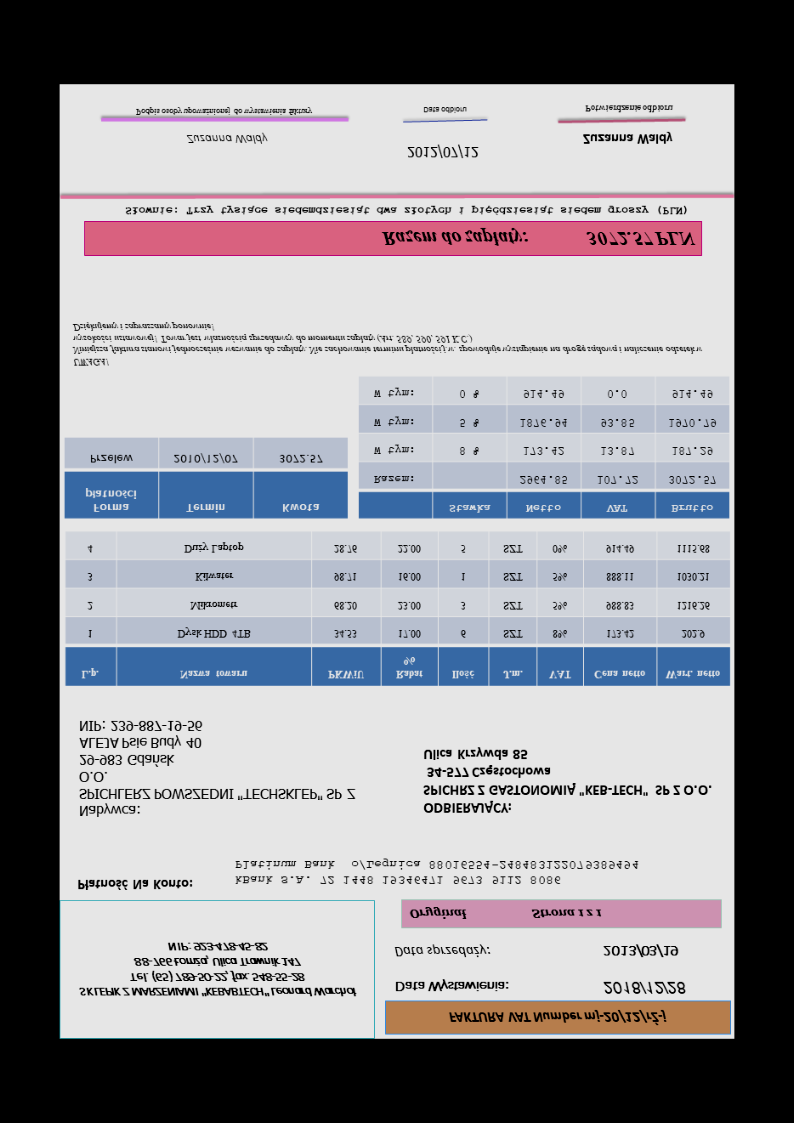Table: (63, 529, 733, 690), (356, 375, 732, 522), (63, 436, 349, 522)
TextBox: (71, 320, 706, 370), (77, 717, 358, 820), (419, 745, 714, 817), (77, 938, 360, 1001), (231, 857, 642, 889), (122, 203, 689, 219), (378, 226, 698, 252), (446, 1008, 670, 1026), (407, 903, 604, 923), (133, 105, 315, 120), (392, 976, 512, 997), (389, 942, 494, 962), (75, 876, 196, 893), (579, 130, 676, 150), (601, 976, 688, 998), (583, 100, 675, 118), (182, 131, 270, 149), (402, 143, 480, 162), (599, 942, 681, 960), (420, 102, 469, 119)
